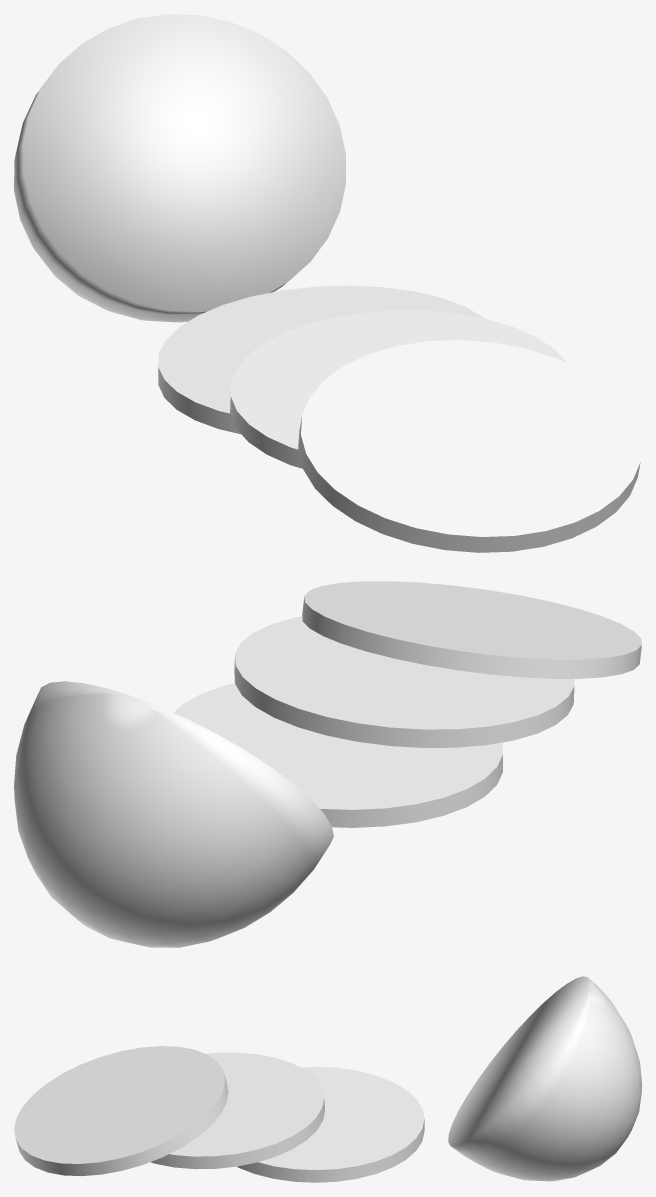
File: mozzarella-pokrojona.gltf
3 renders of one model, top to bottom at view 1: azimuth 30°, elevation 25°; view 2: azimuth 150°, elevation 25°; view 3: azimuth 270°, elevation 25°, orthographic. The views are drawn at different scales.
Parts seen in each view (by area): view 1: cialo.003, Circle.002, Circle.001, Circle; view 2: cialo.003, Circle.001, Circle.002, Circle; view 3: cialo.003, Circle.002, Circle, Circle.001.
Boxes of the visible parts, x1=… form: cialo.003: x1=14, y1=14, x2=345, y2=322; Circle.002: x1=298, y1=340, x2=641, y2=552; Circle.001: x1=230, y1=310, x2=566, y2=468; Circle: x1=158, y1=285, x2=483, y2=434; cialo.003: x1=14, y1=681, x2=333, y2=947; Circle.001: x1=234, y1=616, x2=574, y2=747; Circle.002: x1=302, y1=581, x2=641, y2=678; Circle: x1=174, y1=683, x2=502, y2=827; cialo.003: x1=448, y1=976, x2=641, y2=1181; Circle.002: x1=14, y1=1046, x2=228, y2=1176; Circle: x1=237, y1=1066, x2=424, y2=1182; Circle.001: x1=150, y1=1052, x2=324, y2=1169.
Size of the model in its own units: 1.94 by 1.59 by 4.97.
Materials: 1 (1 with a texture image).
